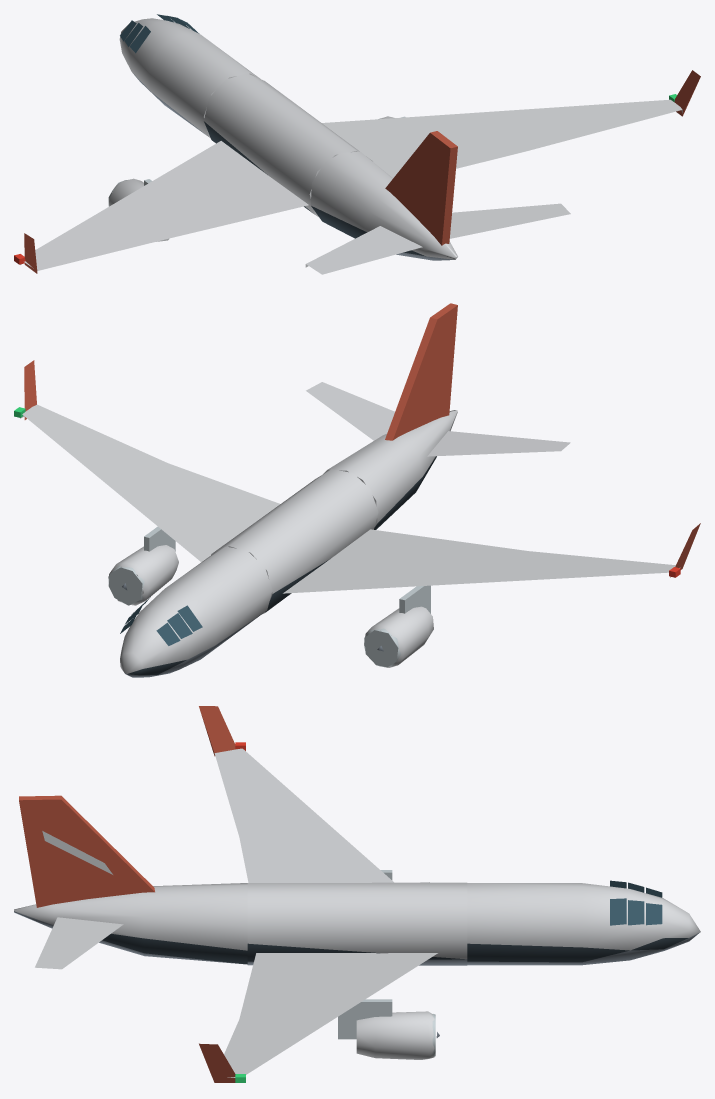
Rendered from solace-lod1.glb.
The picture shows the model from 3 angles, top to bottom: view 1: azimuth 30°, elevation 25°; view 2: azimuth 150°, elevation 25°; view 3: azimuth 270°, elevation 25°; orthographic projection. The views are drawn at different scales.
Parts seen in each view (by area): view 1: distant_airframe; view 2: distant_airframe; view 3: distant_airframe.
Boxes of the visible parts, box(x1,y1,x2,y2) form: distant_airframe: box(14, 14, 700, 274); distant_airframe: box(14, 303, 700, 677); distant_airframe: box(14, 706, 700, 1082).
Bounding box in the file's own units: 16.32 × 4.39 × 14.01.
